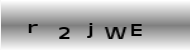2: (56, 26, 70, 40)
E: (130, 22, 142, 37)
W: (102, 25, 127, 40)
j: (84, 21, 93, 38)
r: (26, 22, 39, 34)
